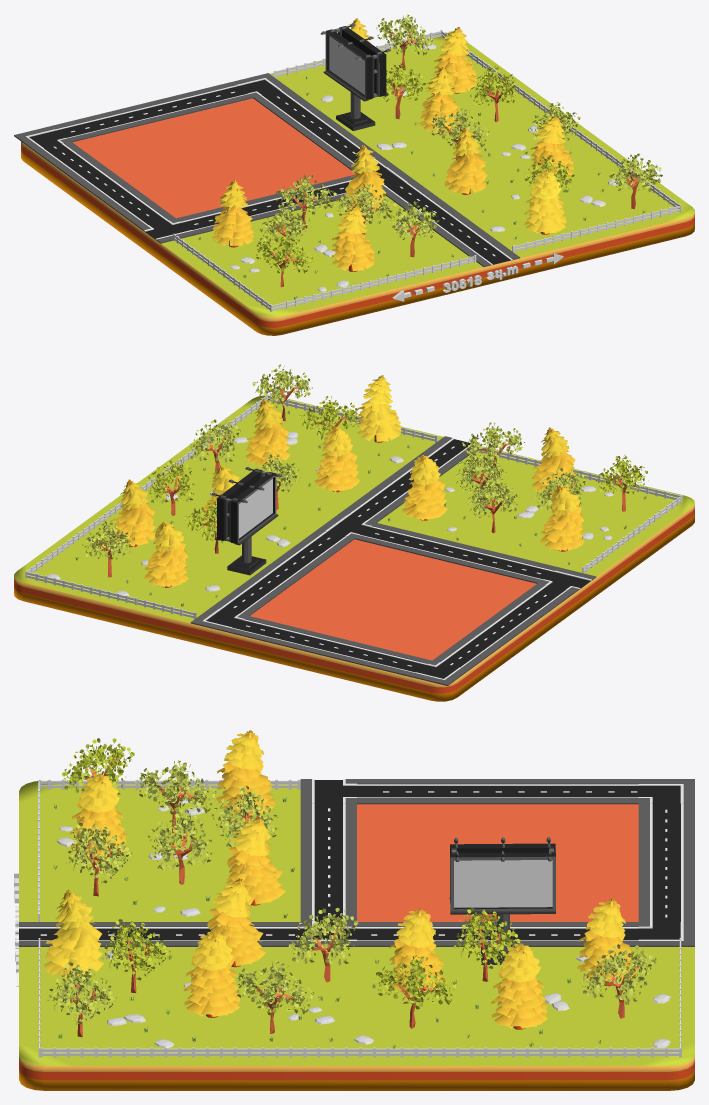
The model's file is Executive.glb.
3 views of the same model, one above another, from view 1: azimuth 30°, elevation 25°; view 2: azimuth 150°, elevation 25°; view 3: azimuth 270°, elevation 25° (orthographic). The views are drawn at different scales.
Parts seen in each view (by area): view 1: 3.005, Billboar.002, 1.025, 1.024, 1.030, 1.022, Cube.236, 1.026, Cube.237, Pine.040, Pine.035, Pine.032 (+21 smaller); view 2: 3.005, Billboar.002, 1.025, 1.026, 1.024, 1.022, 1.030, Cube.236, Pine.034, Pine.036, Pine.032, Pine.037 (+22 smaller); view 3: 3.005, Billboar.002, 1.024, 1.025, 1.026, Cube.236, 1.022, 1.030, Pine.038, Pine.033, Pine.040, Pine.037 (+24 smaller).
Part boxes in pixels (box(x1,y1,x2,y2)): 3.005: box(21, 32, 694, 335); Billboar.002: box(320, 23, 390, 130); 1.025: box(50, 82, 252, 142); 1.024: box(35, 141, 175, 227); 1.030: box(382, 180, 520, 266); 1.022: box(253, 88, 393, 173); Cube.236: box(273, 29, 681, 252); 1.026: box(176, 175, 357, 234); Cube.237: box(173, 233, 476, 311); Pine.040: box(524, 170, 566, 234); Pine.035: box(331, 205, 375, 271); Pine.032: box(444, 127, 487, 194); 3.005: box(14, 395, 694, 701); Billboar.002: box(211, 467, 281, 575); 1.025: box(227, 616, 431, 676); 1.026: box(354, 523, 558, 583); 1.024: box(432, 583, 574, 670); 1.022: box(212, 529, 354, 615); 1.030: box(339, 436, 473, 522); Cube.236: box(25, 394, 437, 619); Pine.034: box(144, 522, 188, 587); Pine.036: box(540, 485, 584, 551); Pine.032: box(314, 426, 360, 492); Pine.037: box(402, 455, 447, 520); 3.005: box(14, 781, 694, 1090); Billboar.002: box(449, 837, 555, 964); 1.024: box(357, 779, 638, 804); 1.025: box(638, 803, 694, 922); 1.026: box(300, 803, 356, 922); Cube.236: box(38, 938, 681, 1057); 1.022: box(357, 922, 638, 946); 1.030: box(19, 922, 300, 946); Pine.038: box(183, 931, 240, 1017); Pine.033: box(491, 943, 548, 1029); Pine.040: box(44, 889, 103, 977); Pine.037: box(226, 817, 285, 905).
Size of the model in its own units: 12 by 2.65 by 12.09.
1 material, 1 textured.
